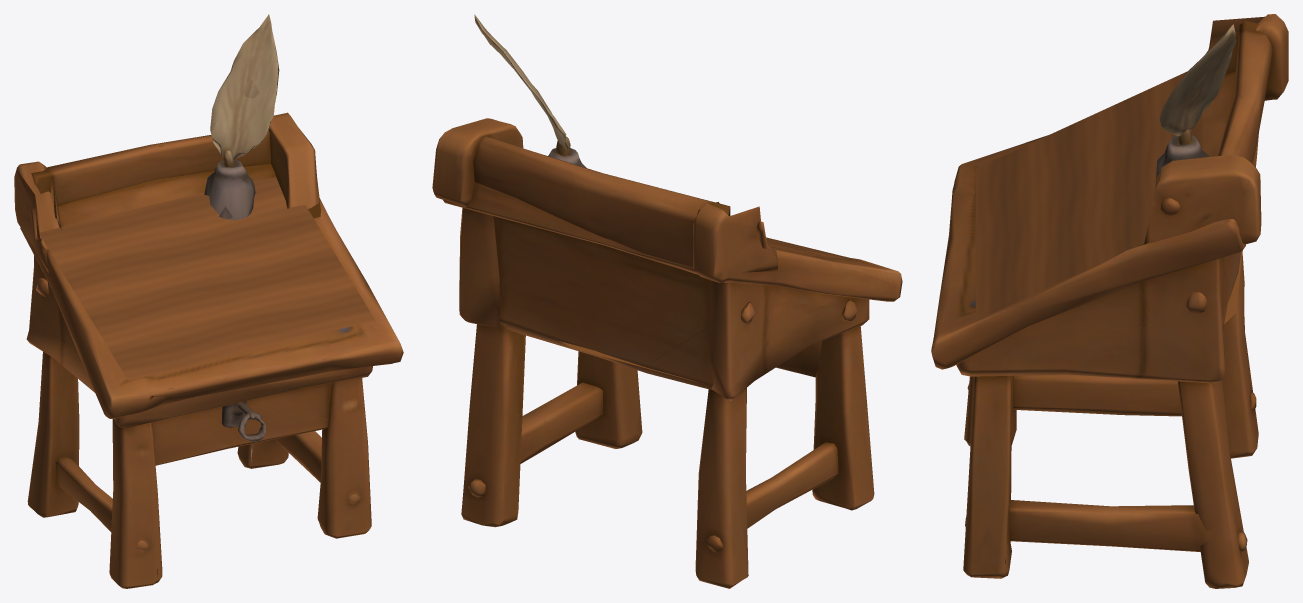
The model's file is sumicio_pupitre_limpio.glb.
3 views of the same model, side by side, from view 1: azimuth 30°, elevation 25°; view 2: azimuth 150°, elevation 25°; view 3: azimuth 270°, elevation 25° (orthographic). The views are drawn at different scales.
Visible parts, largest first — view 1: Pupitre; view 2: Pupitre; view 3: Pupitre.
Part boxes in pixels (<box>): Pupitre: <box>14,14,403,588</box>; Pupitre: <box>432,14,902,588</box>; Pupitre: <box>931,14,1288,588</box>.
Size of the model in its own units: 0.2201 by 0.3148 by 0.1813.
Materials: 2 (2 with a texture image).
